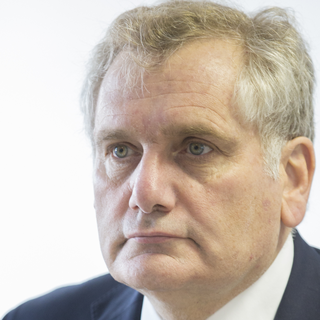eye: (175, 138, 223, 164), (100, 139, 143, 165)
